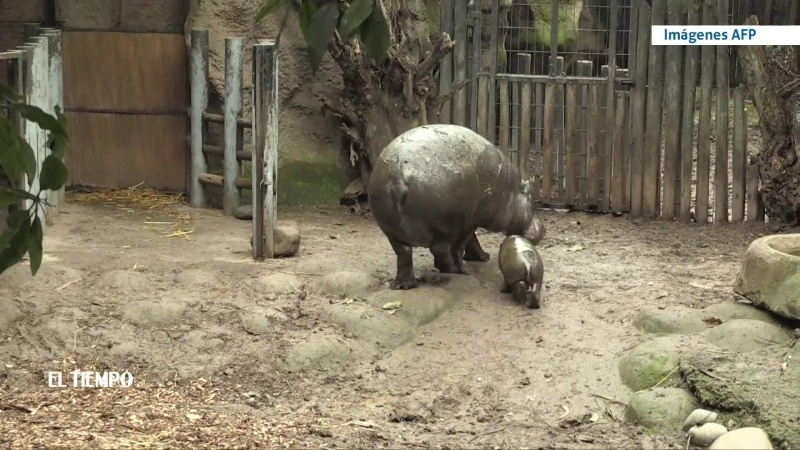hipopotamo: (356, 103, 544, 282), (481, 222, 563, 328)
